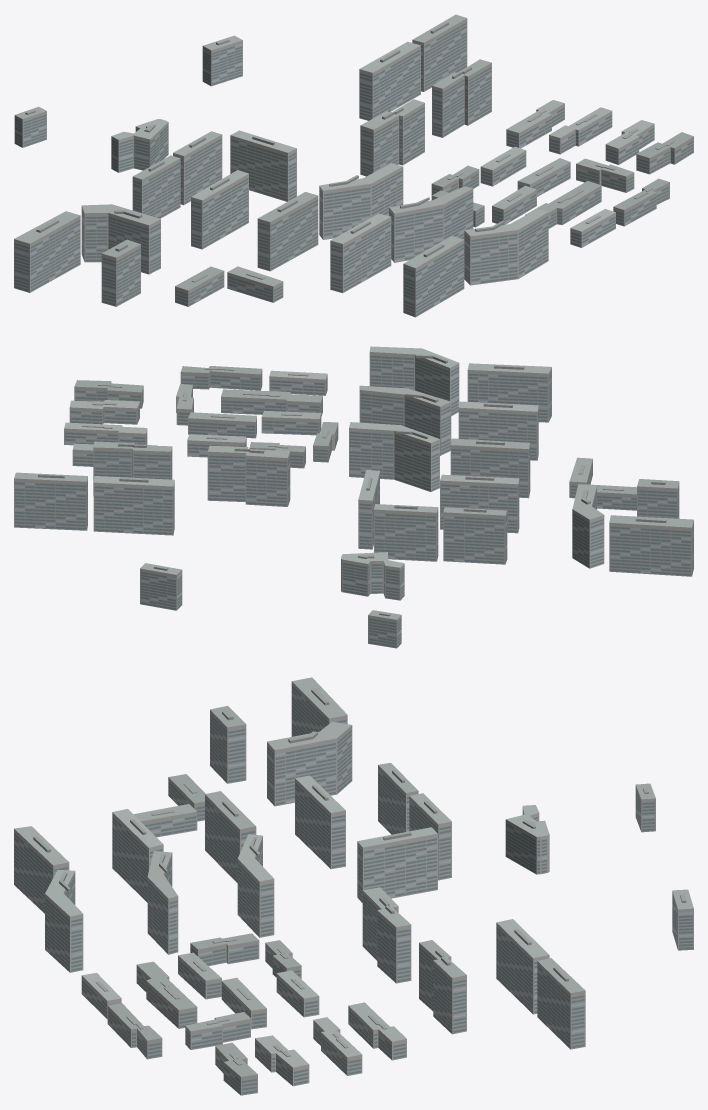
File: apt-a15807101.glb
The picture shows the model from 3 angles, top to bottom: view 1: azimuth 30°, elevation 25°; view 2: azimuth 150°, elevation 25°; view 3: azimuth 270°, elevation 25°; orthographic projection. The views are drawn at different scales.
Parts seen in each view (by area): view 1: apt-a15807101; view 2: apt-a15807101; view 3: apt-a15807101.
Boxes of the visible parts, box(x1,y1,x2,y2) form: apt-a15807101: box(14, 14, 693, 317); apt-a15807101: box(14, 346, 693, 648); apt-a15807101: box(14, 677, 693, 1095).
Bounding box in the file's own units: 631 × 47.81 × 501.
